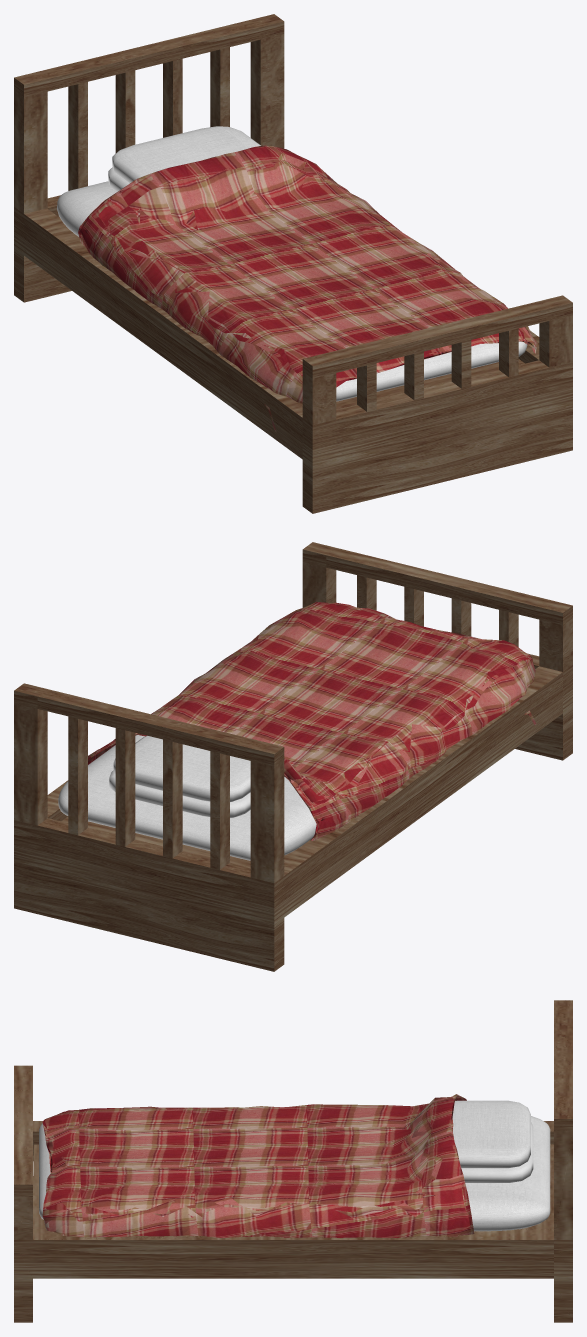
File: single_bed.glb
3 views of the same model, one above another, from view 1: azimuth 30°, elevation 25°; view 2: azimuth 150°, elevation 25°; view 3: azimuth 270°, elevation 25° (orthographic). The views are drawn at different scales.
Parts seen in each view (by area): view 1: Bedstead, Duvet, Piillow 1, Matress; view 2: Bedstead, Duvet, Matress, Piillow 1, Pillow 2; view 3: Duvet, Bedstead, Matress, Piillow 1, Pillow 2.
Boxes of the visible parts, box(x1,y1,x2,y2) form: Bedstead: box(14, 14, 572, 513); Duvet: box(78, 145, 537, 431); Piillow 1: box(112, 126, 260, 182); Matress: box(57, 181, 527, 401); Bedstead: box(14, 542, 572, 971); Duvet: box(88, 601, 536, 840); Matress: box(58, 735, 316, 860); Piillow 1: box(113, 735, 250, 801); Pillow 2: box(109, 770, 250, 818); Duvet: box(42, 1094, 474, 1237); Bedstead: box(14, 1000, 572, 1322); Matress: box(39, 1116, 550, 1231); Piillow 1: box(452, 1100, 530, 1168); Pillow 2: box(461, 1122, 533, 1182).
Bounding box in the file's own units: 19.66 × 15.69 × 39.03.
Materials: 3 (3 with a texture image).
